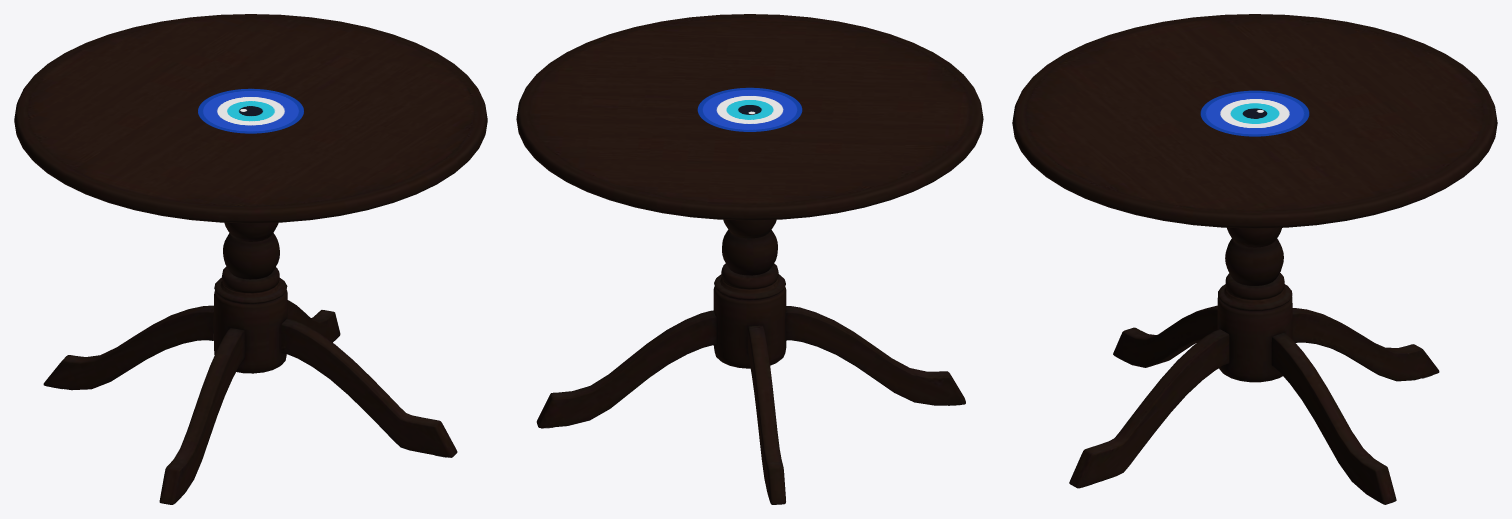
File: nyb_llewyn_table.glb
3 renders of one model, left to right at view 1: azimuth 30°, elevation 25°; view 2: azimuth 150°, elevation 25°; view 3: azimuth 270°, elevation 25°, orthographic. The views are drawn at different scales.
Parts seen in each view (by area): view 1: round_wooden_table_01, stk_nazar.png; view 2: round_wooden_table_01, stk_nazar.png; view 3: round_wooden_table_01, stk_nazar.png.
Boxes of the visible parts, bbox=[...] form: round_wooden_table_01: bbox=[14, 14, 487, 504]; stk_nazar.png: bbox=[198, 88, 303, 133]; round_wooden_table_01: bbox=[516, 14, 983, 504]; stk_nazar.png: bbox=[697, 87, 802, 131]; round_wooden_table_01: bbox=[1012, 14, 1497, 504]; stk_nazar.png: bbox=[1200, 90, 1309, 136].
Size of the model in its own units: 1.4 by 1.01 by 1.4.
2 materials, 2 textured.
